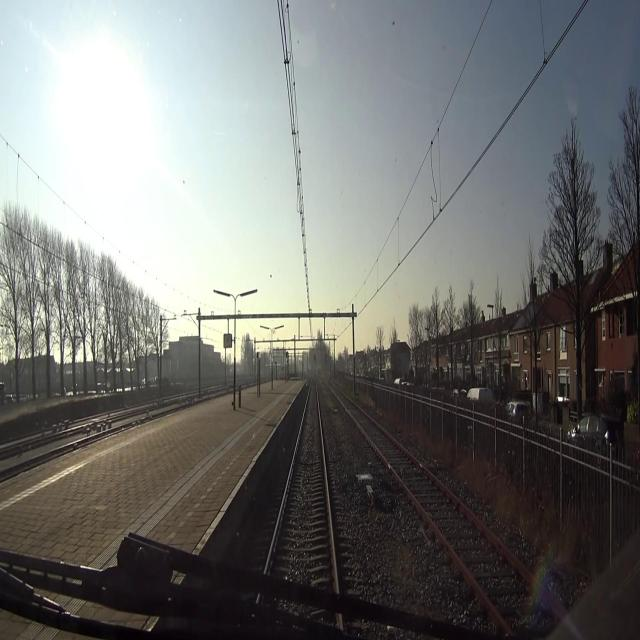rail-track: (337, 391, 538, 599), (267, 380, 336, 598), (22, 436, 76, 456), (0, 455, 20, 465)
